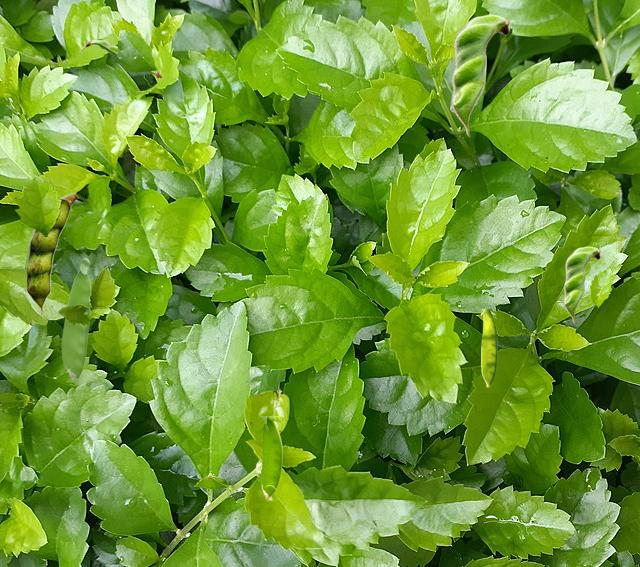pea: (449, 14, 513, 136), (26, 193, 77, 315), (61, 257, 90, 379), (562, 246, 602, 323), (80, 39, 161, 76), (261, 416, 281, 499), (481, 309, 496, 386), (24, 230, 33, 323)
